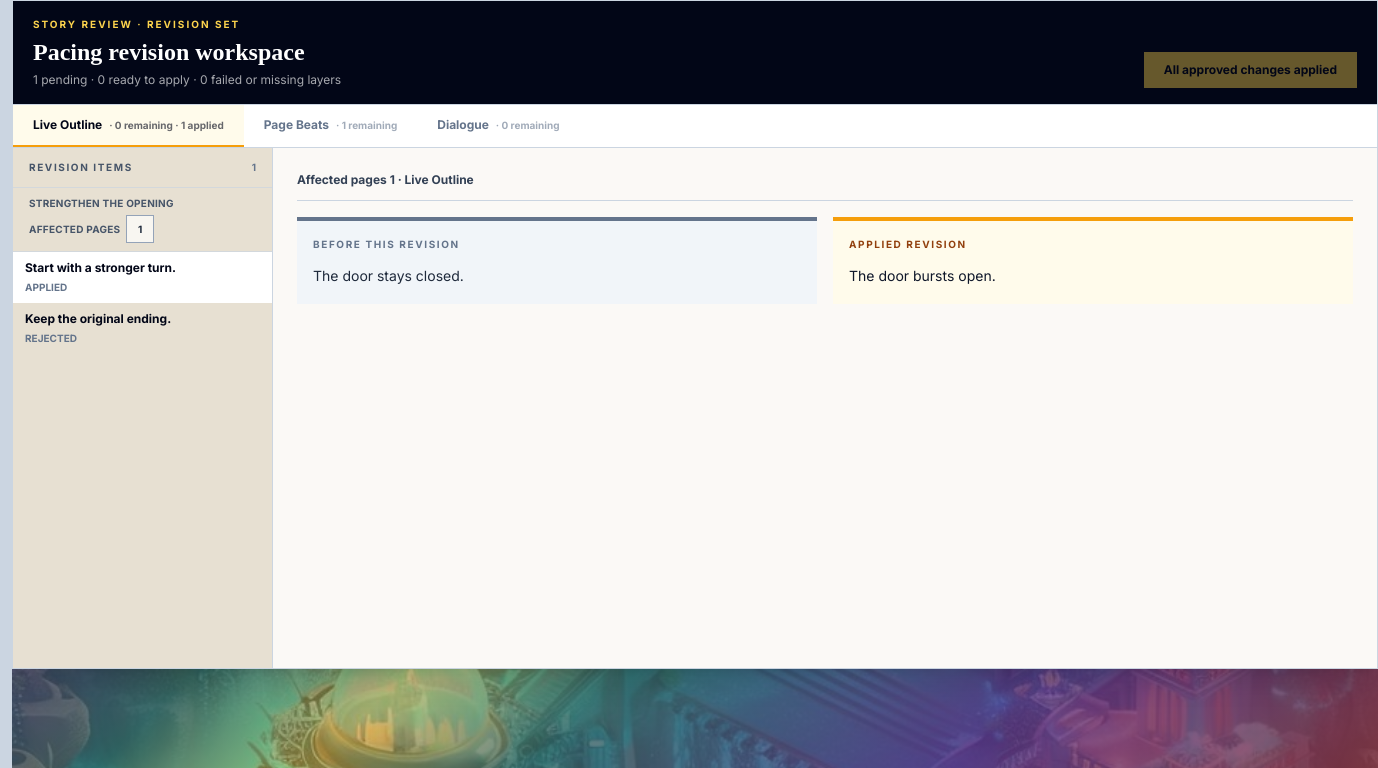
Scenario: WriterPacingRevisionWorkspace › renders applied and approved lifecycle comparisons with terminal actions read-only
Check: the text "Before this revision" is shown, box 313,238 -> 460,250
Check: the text "Applied revision" is shown, box 849,237 -> 967,252
Click the button "Keep the original ending. Rejected" at (142, 328), box 25,311 -> 260,346
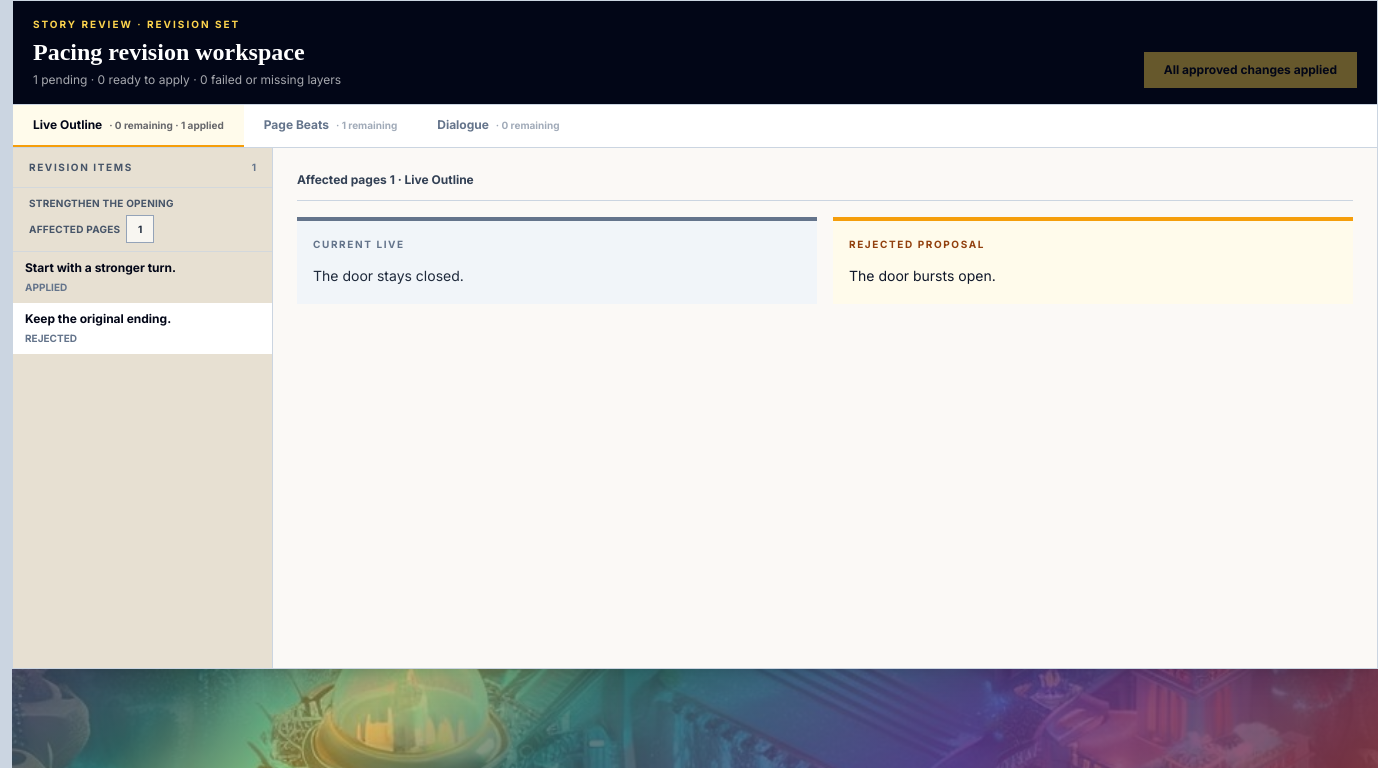
Check: the text "Rejected proposal" is shown, box 849,237 -> 985,252
